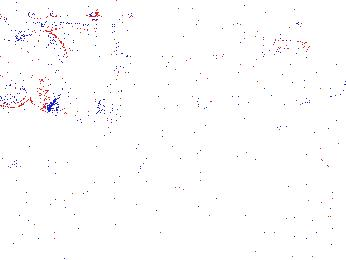moon jellyfish: (171, 54, 255, 125), (1, 30, 69, 112), (252, 48, 346, 104), (60, 35, 120, 117)
